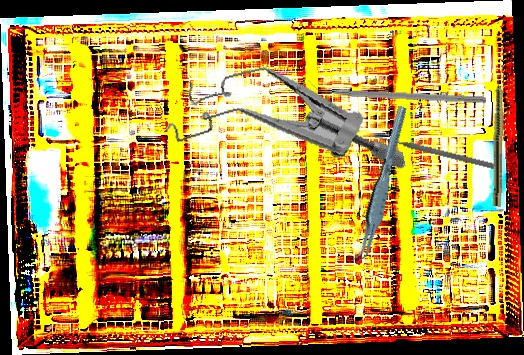Chopper: (307, 78, 487, 104)
Handpiece: (492, 64, 506, 207)
Pusher: (372, 132, 503, 172)
Speculum: (156, 35, 407, 221)
Tissue Forceps: (337, 104, 425, 267)
